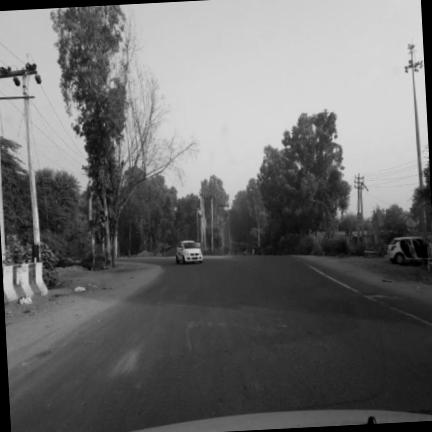Road: (8, 256, 431, 431)
